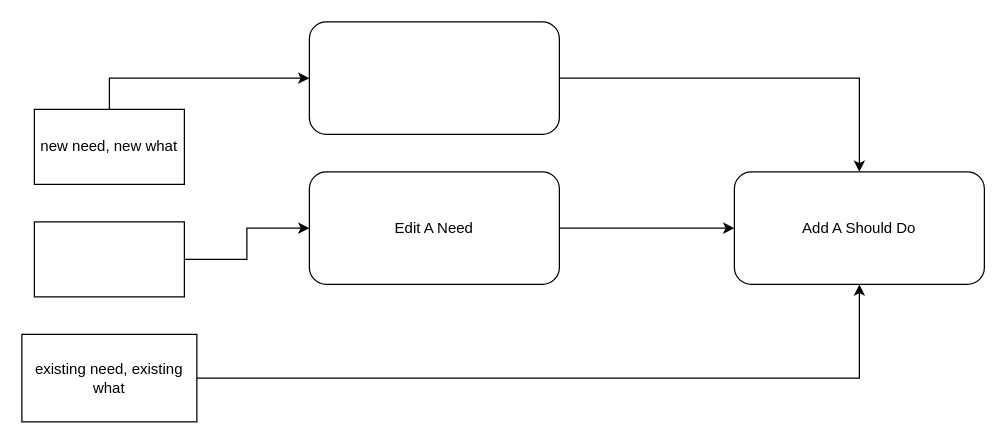
The diagram is 1006 pixels wide and 444 high, and some of its shapes have lost their labels. Each missing label, with the centre of its shape:
Add a new need: the point at 433,77
existing need, new what: the point at 108,259
